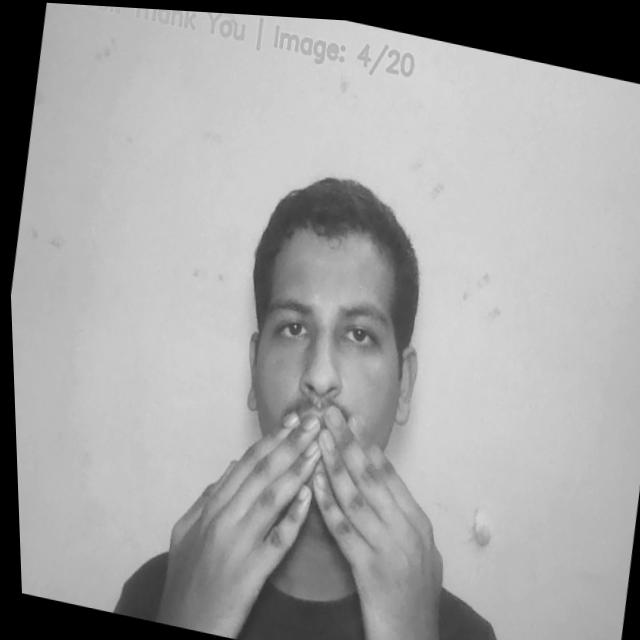Thank You: (158, 369, 457, 594)
